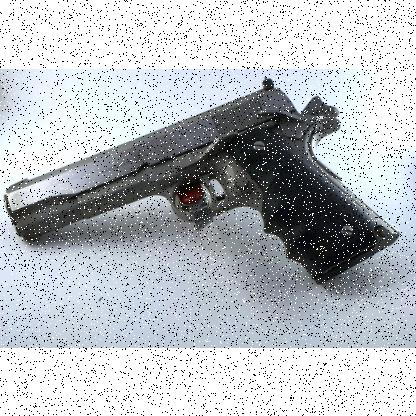gun: (2, 76, 400, 284)
